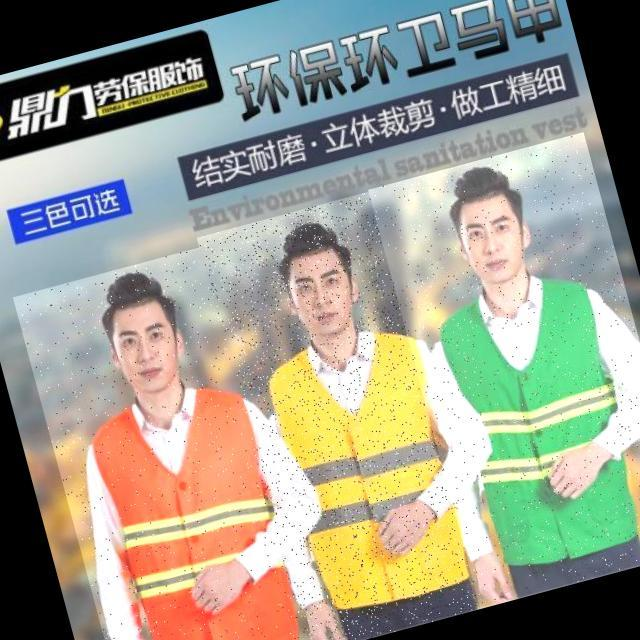Human: (196, 178, 525, 640), (12, 233, 357, 640), (367, 131, 640, 608)
Safety Vest: (259, 319, 487, 620), (435, 263, 640, 573), (78, 372, 307, 640)
